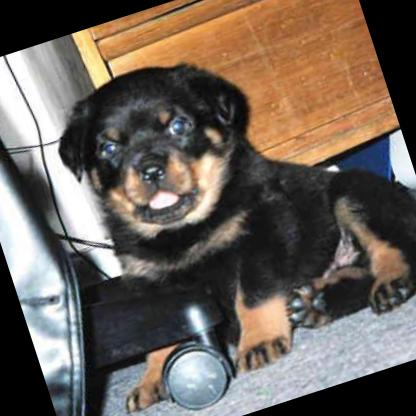Rottweiler: (17, 0, 416, 416)
